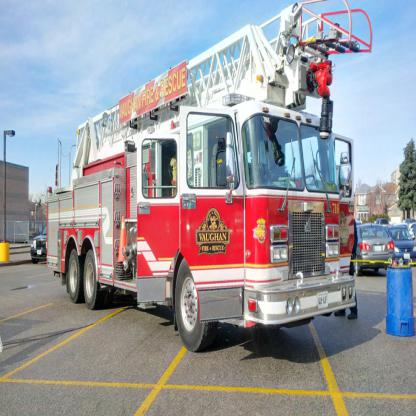Car: (355, 220, 396, 276), (386, 225, 415, 267), (30, 226, 48, 263)
Truck: (46, 0, 372, 353)
